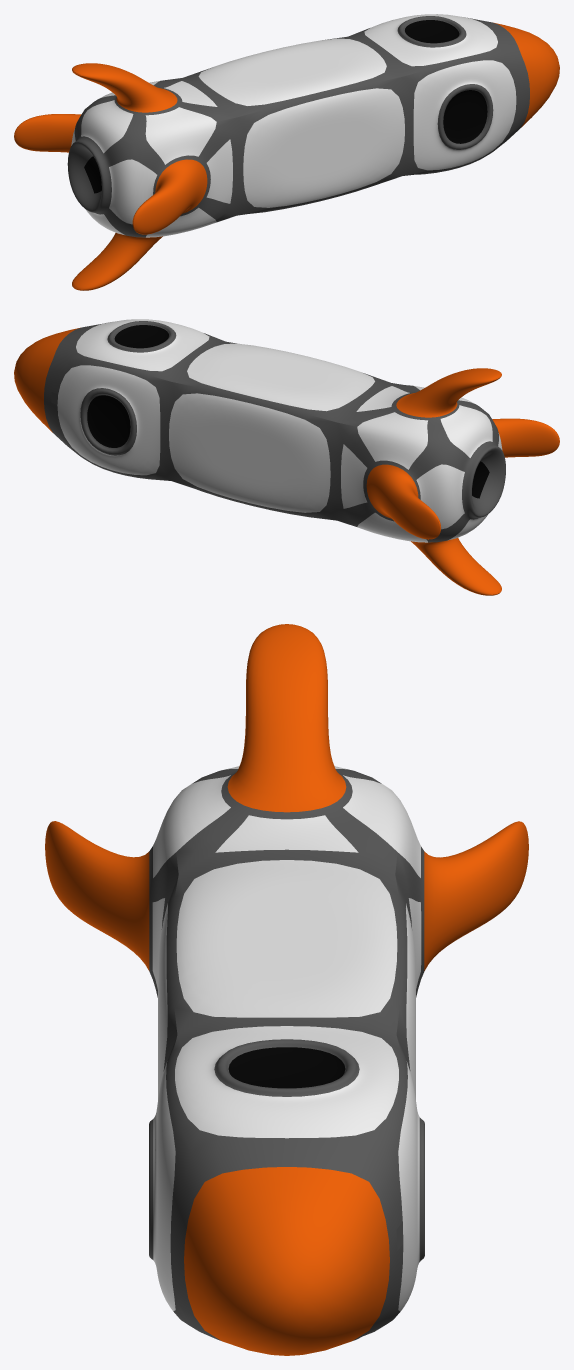
File: FinalRocket.fbx
3 views of the same model, one above another, from view 1: azimuth 30°, elevation 25°; view 2: azimuth 150°, elevation 25°; view 3: azimuth 270°, elevation 25° (orthographic). The views are drawn at different scales.
Visible parts, largest first — view 1: Cube; view 2: Cube; view 3: Cube.
Boxes of the visible parts, x1,y1,x2,y2 form: Cube: [14, 14, 559, 290]; Cube: [14, 319, 559, 595]; Cube: [45, 624, 528, 1355].
Size of the model in its own units: 865 by 375 by 375.
